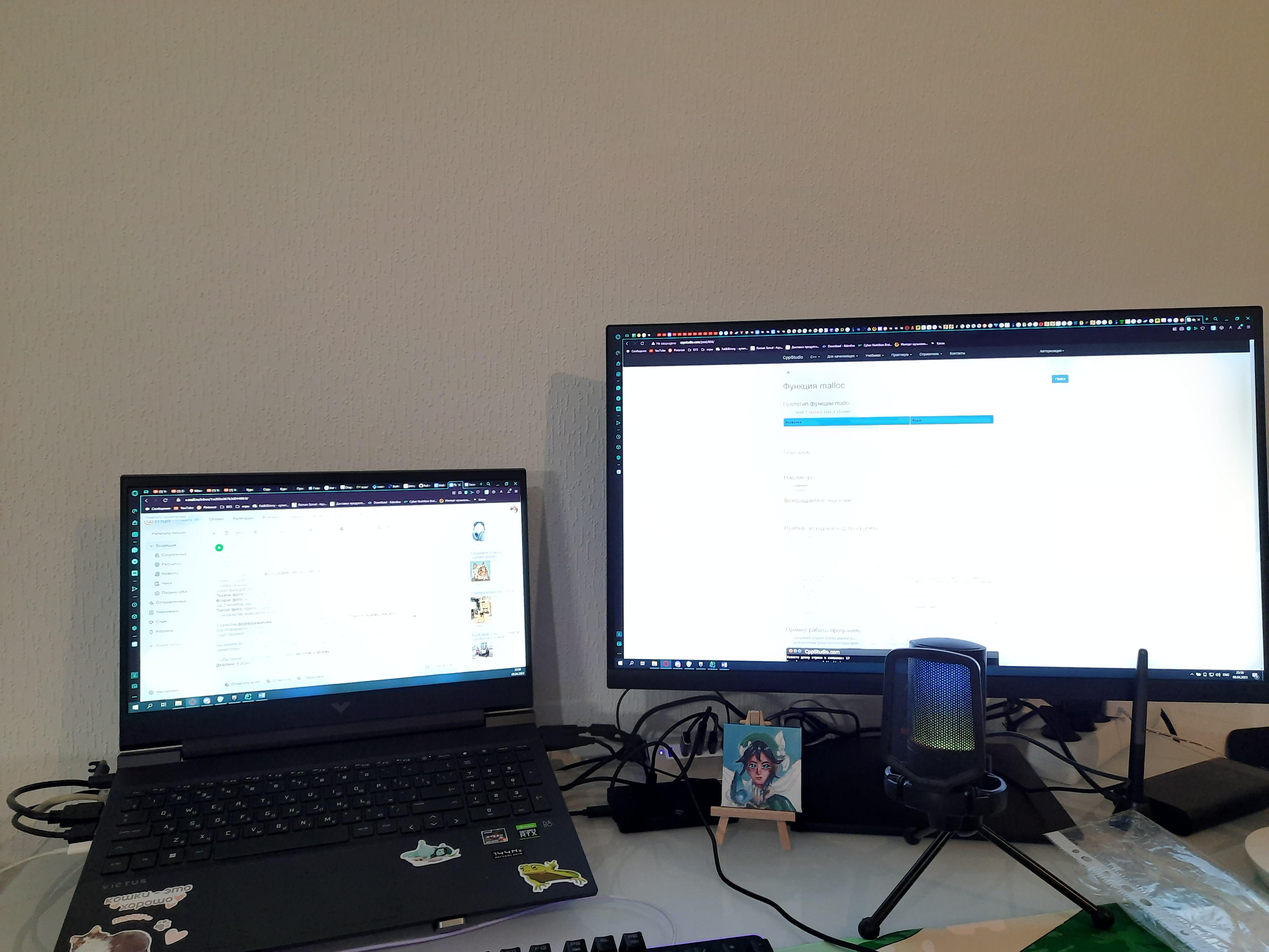monitor: (600, 301, 1269, 708), (113, 465, 542, 754)
